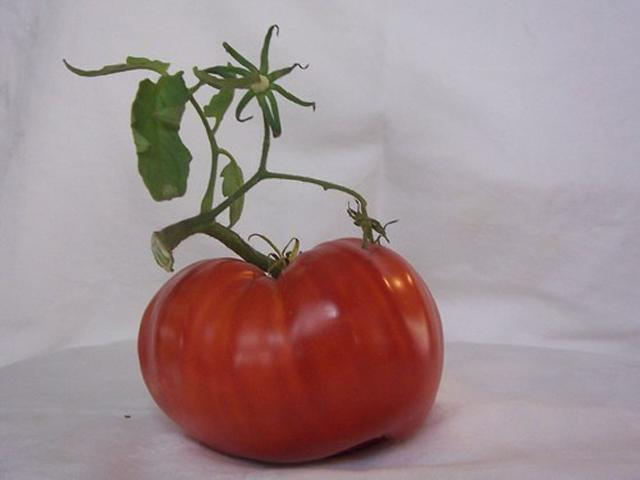tomato: (136, 238, 444, 465)
